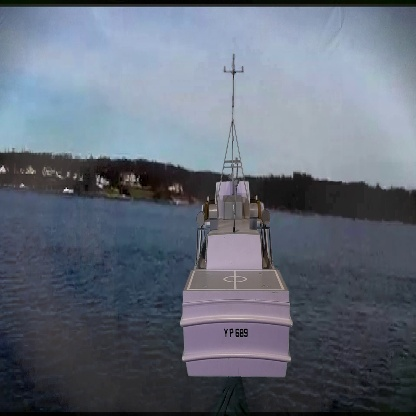YP689: (178, 54, 293, 374)
